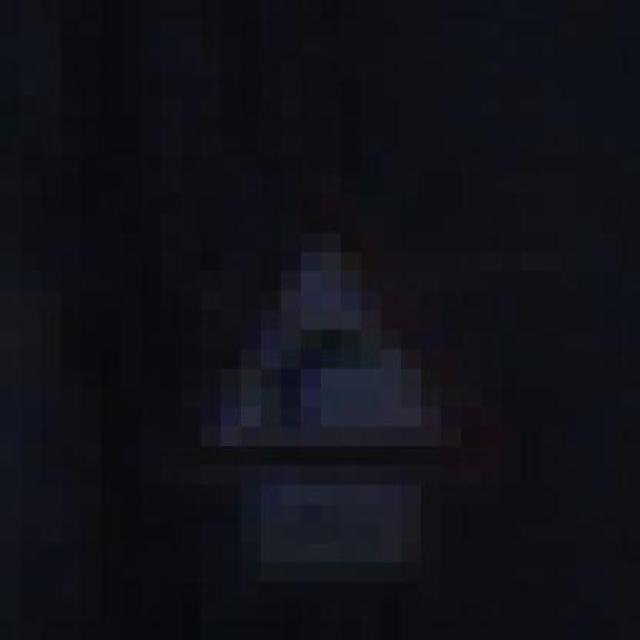Dangerous Rright Curve Ahead: (156, 156, 496, 504)
